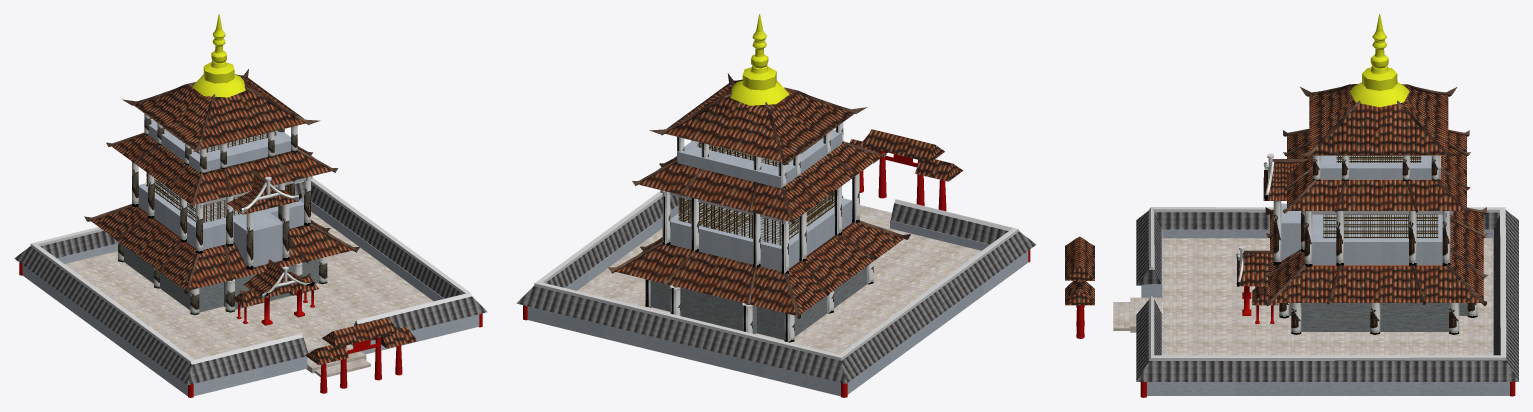
Rendered from Temple.obj.
3 views of the same model, side by side, from view 1: azimuth 30°, elevation 25°; view 2: azimuth 150°, elevation 25°; view 3: azimuth 270°, elevation 25° (orthographic). The views are drawn at different scales.
Parts seen in each view (by area): view 1: roof, Box001, Rectangle002, outside, Rectangle001, pilar_house, Line002, deco_roof, base, pillar, inside, pointe (+2 smaller); view 2: roof, Rectangle002, Box001, outside, Rectangle001, pilar_house, Line002, base, deco_roof, inside, pillar, pointe (+1 smaller); view 3: roof, Box001, Rectangle002, outside, Rectangle001, pilar_house, Line002, base, deco_roof, inside, pointe, pointe_socle (+4 smaller).
Part boxes in pixels (x1,y1,x2,y2): roof: [90, 77, 417, 364]; Box001: [65, 211, 433, 359]; Rectangle002: [14, 182, 487, 385]; outside: [138, 120, 303, 267]; Rectangle001: [22, 198, 479, 396]; pilar_house: [118, 113, 327, 314]; Line002: [30, 178, 471, 364]; deco_roof: [84, 69, 359, 293]; base: [124, 245, 318, 312]; pillar: [19, 262, 482, 397]; inside: [146, 128, 291, 222]; pointe: [203, 14, 234, 83]; roof: [615, 82, 963, 315]; Rectangle002: [516, 192, 1036, 383]; Box001: [577, 223, 981, 354]; outside: [670, 129, 851, 271]; Rectangle001: [527, 199, 1028, 396]; pilar_house: [645, 122, 873, 342]; Line002: [534, 191, 1019, 360]; base: [650, 266, 867, 339]; deco_roof: [608, 73, 910, 318]; inside: [678, 137, 834, 245]; pillar: [523, 150, 1030, 397]; pointe: [742, 14, 776, 90]; roof: [1065, 86, 1483, 305]; Box001: [1162, 238, 1492, 355]; Rectangle002: [1136, 210, 1518, 381]; outside: [1281, 155, 1442, 264]; Rectangle001: [1141, 229, 1509, 395]; pilar_house: [1273, 155, 1477, 334]; Line002: [1148, 207, 1506, 360]; base: [1289, 303, 1467, 331]; deco_roof: [1265, 84, 1488, 305]; inside: [1323, 155, 1438, 238]; pointe: [1362, 14, 1397, 90]; pointe_socle: [1349, 82, 1409, 107].
Size of the model in its own units: 39.67 by 34.31 by 47.06.
